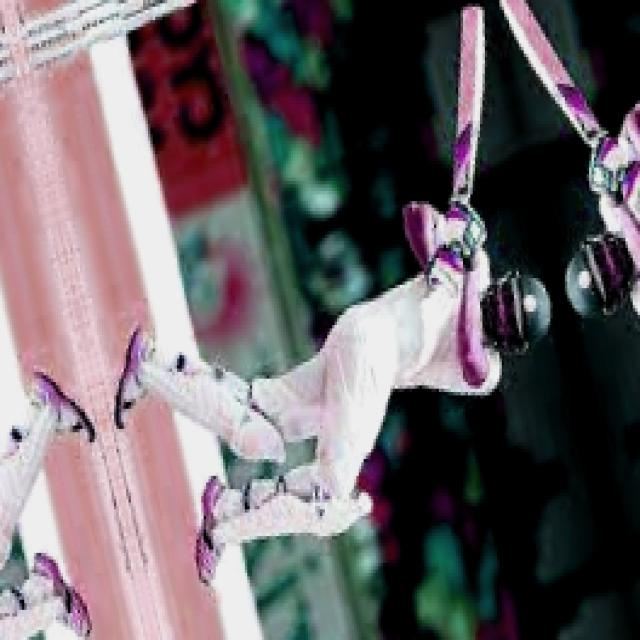toe: (457, 4, 487, 37)
